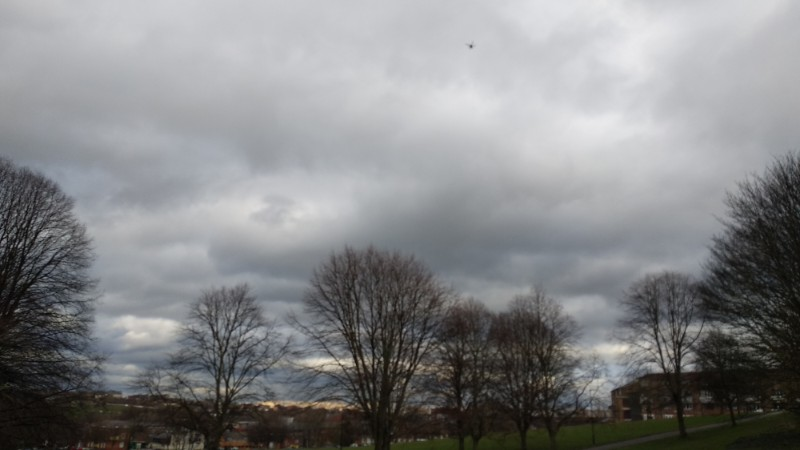drone: (466, 39, 476, 51)
